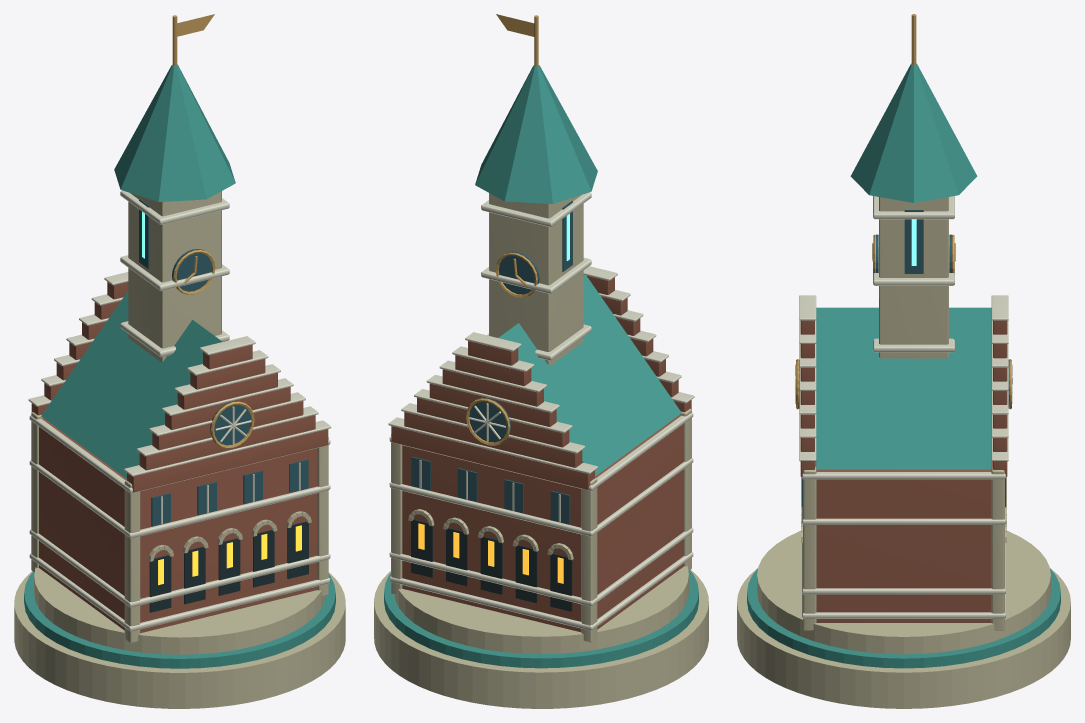
File: world-hansehaus.glb
The picture shows the model from 3 angles, left to right: view 1: azimuth 30°, elevation 25°; view 2: azimuth 150°, elevation 25°; view 3: azimuth 270°, elevation 25°; orthographic projection.
Parts seen in each view (by area): view 1: world-hansehaus / Old harbor sandstone, world-hansehaus / Hanseatic red brick, world-hansehaus / Copper verdigris, world-hansehaus / Salt washed ivory, world-hansehaus / Deep insets, world-hansehaus / Prussian slate, world-hansehaus / Weathered maritime brass, world-hansehaus / Sulphur amber light; view 2: world-hansehaus / Old harbor sandstone, world-hansehaus / Hanseatic red brick, world-hansehaus / Copper verdigris, world-hansehaus / Salt washed ivory, world-hansehaus / Deep insets, world-hansehaus / Prussian slate, world-hansehaus / Weathered maritime brass, world-hansehaus / Sulphur amber light; view 3: world-hansehaus / Copper verdigris, world-hansehaus / Old harbor sandstone, world-hansehaus / Hanseatic red brick, world-hansehaus / Salt washed ivory, world-hansehaus / Prussian slate, world-hansehaus / Weathered maritime brass.
Part boxes in pixels (left/top/right/bottom): world-hansehaus / Old harbor sandstone: left=14, top=191, right=345, bottom=708; world-hansehaus / Hanseatic red brick: left=31, top=282, right=328, bottom=632; world-hansehaus / Copper verdigris: left=24, top=64, right=335, bottom=668; world-hansehaus / Salt washed ivory: left=28, top=190, right=331, bottom=631; world-hansehaus / Deep insets: left=149, top=521, right=308, bottom=612; world-hansehaus / Prussian slate: left=139, top=199, right=308, bottom=526; world-hansehaus / Weathered maritime brass: left=172, top=14, right=254, bottom=448; world-hansehaus / Sulphur amber light: left=158, top=525, right=301, bottom=585; world-hansehaus / Old harbor sandstone: left=374, top=193, right=708, bottom=708; world-hansehaus / Hanseatic red brick: left=391, top=275, right=691, bottom=632; world-hansehaus / Copper verdigris: left=384, top=65, right=698, bottom=668; world-hansehaus / Salt washed ivory: left=388, top=192, right=694, bottom=630; world-hansehaus / Deep insets: left=411, top=519, right=572, bottom=611; world-hansehaus / Prussian slate: left=411, top=201, right=572, bottom=524; world-hansehaus / Weathered maritime brass: left=466, top=14, right=538, bottom=445; world-hansehaus / Sulphur amber light: left=418, top=523, right=563, bottom=583; world-hansehaus / Copper verdigris: left=747, top=63, right=1060, bottom=668; world-hansehaus / Old harbor sandstone: left=737, top=197, right=1070, bottom=708; world-hansehaus / Hanseatic red brick: left=800, top=320, right=1007, bottom=622; world-hansehaus / Salt washed ivory: left=795, top=196, right=1012, bottom=618; world-hansehaus / Prussian slate: left=798, top=210, right=1009, bottom=507; world-hansehaus / Weathered maritime brass: left=796, top=14, right=1011, bottom=409.
Bounding box in the file's own units: 10 × 20.6 × 10.
